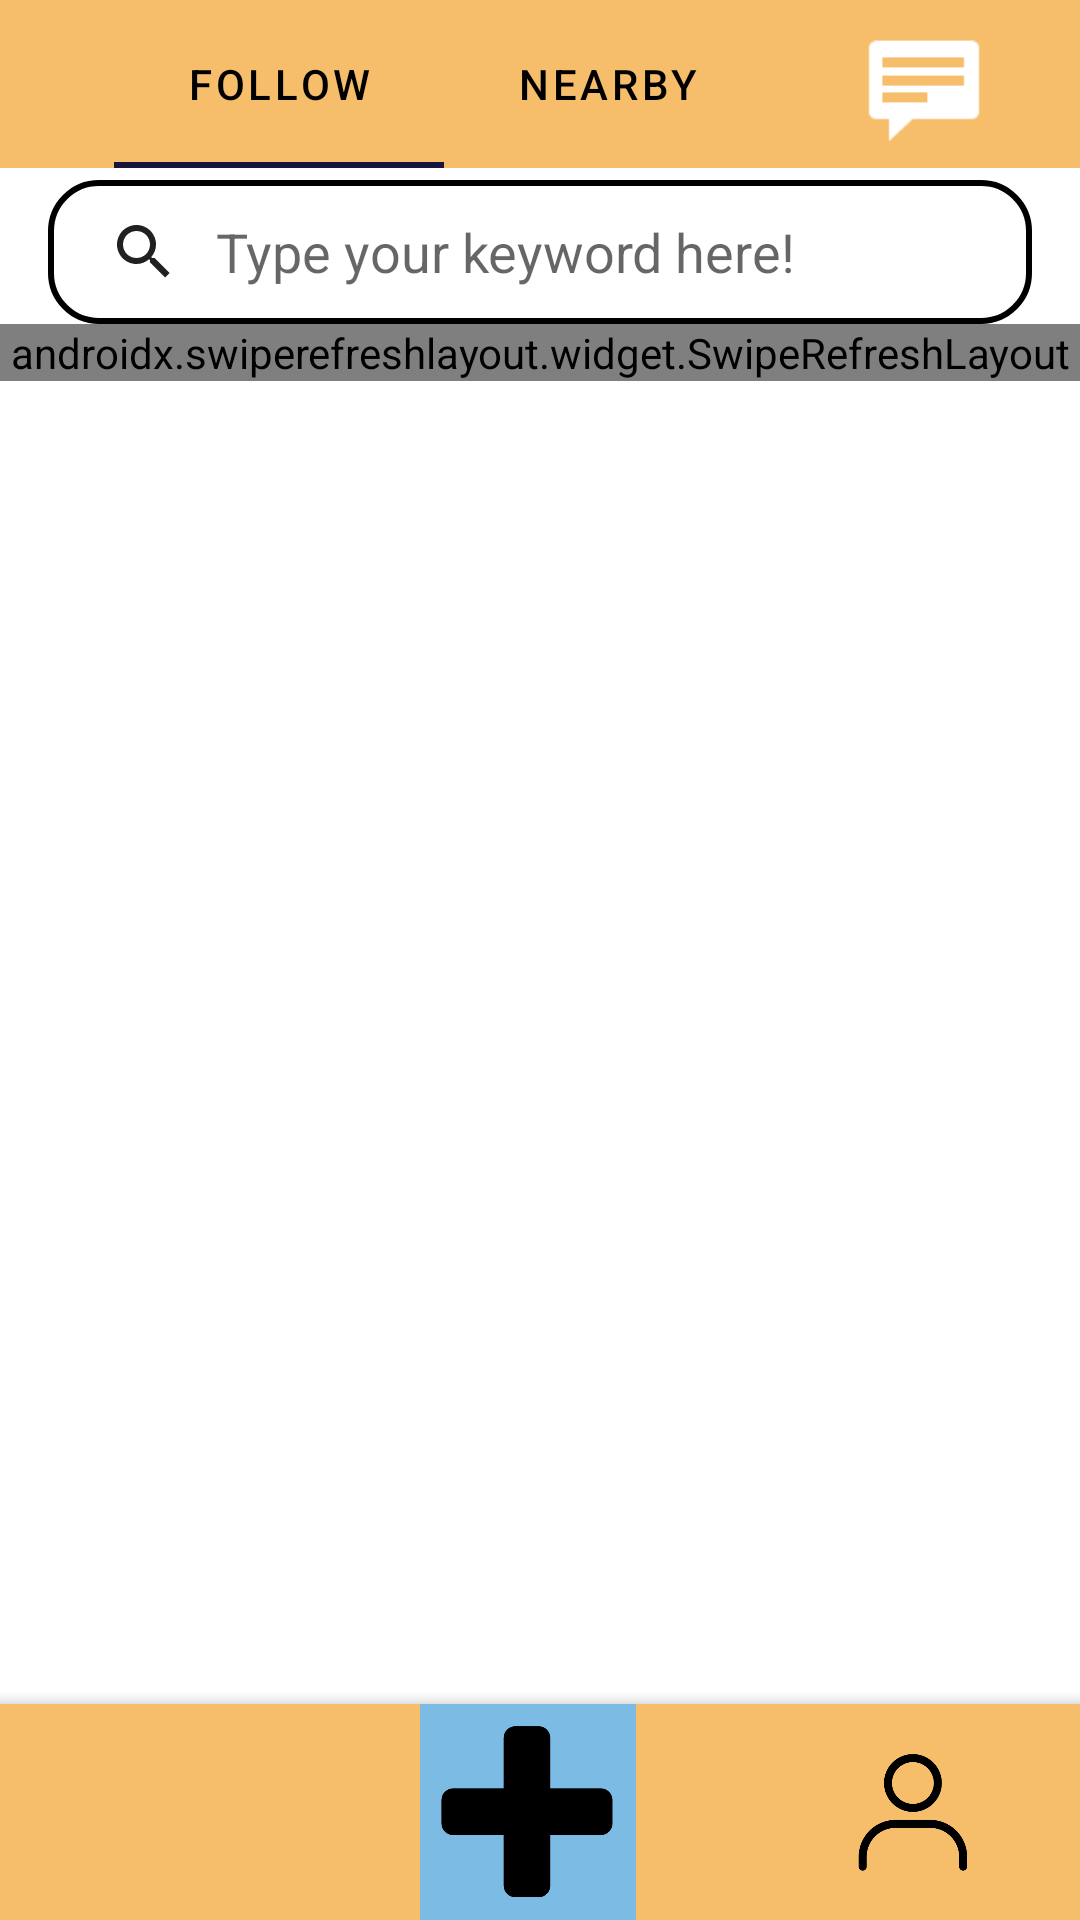

Point at icon controls on the screen. Image size 1080*1920, points as (x,y).
chat: (924,90)
person: (912,1812)
plus: (528,1812)
